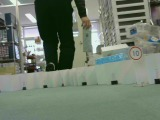speed_10: (127, 45, 143, 61)
